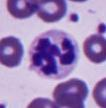N: (28, 29, 80, 79)
